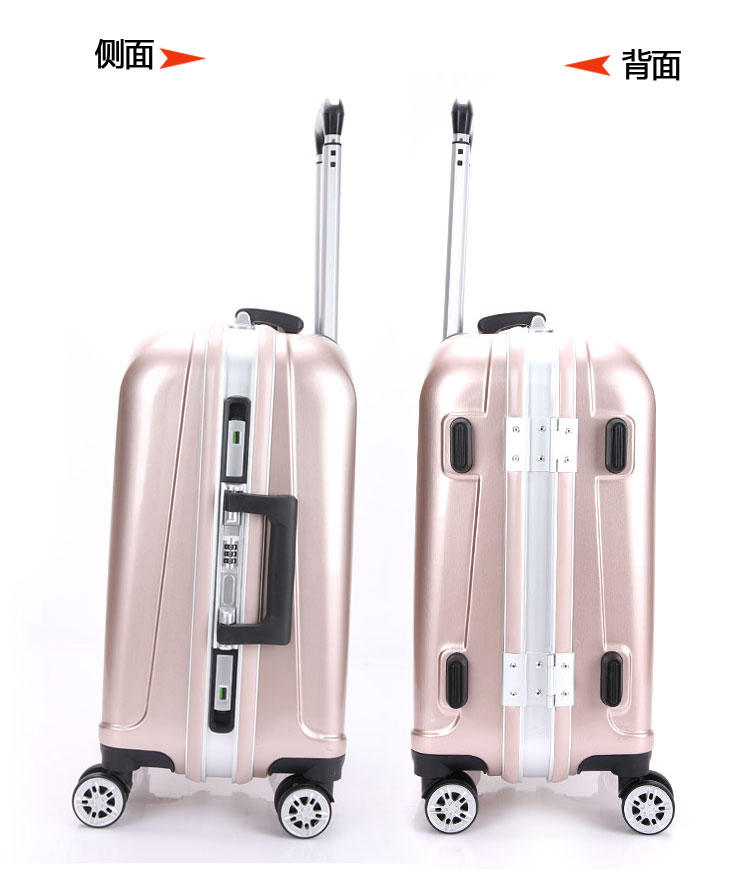luggage: (71, 97, 360, 840), (409, 100, 678, 835)
